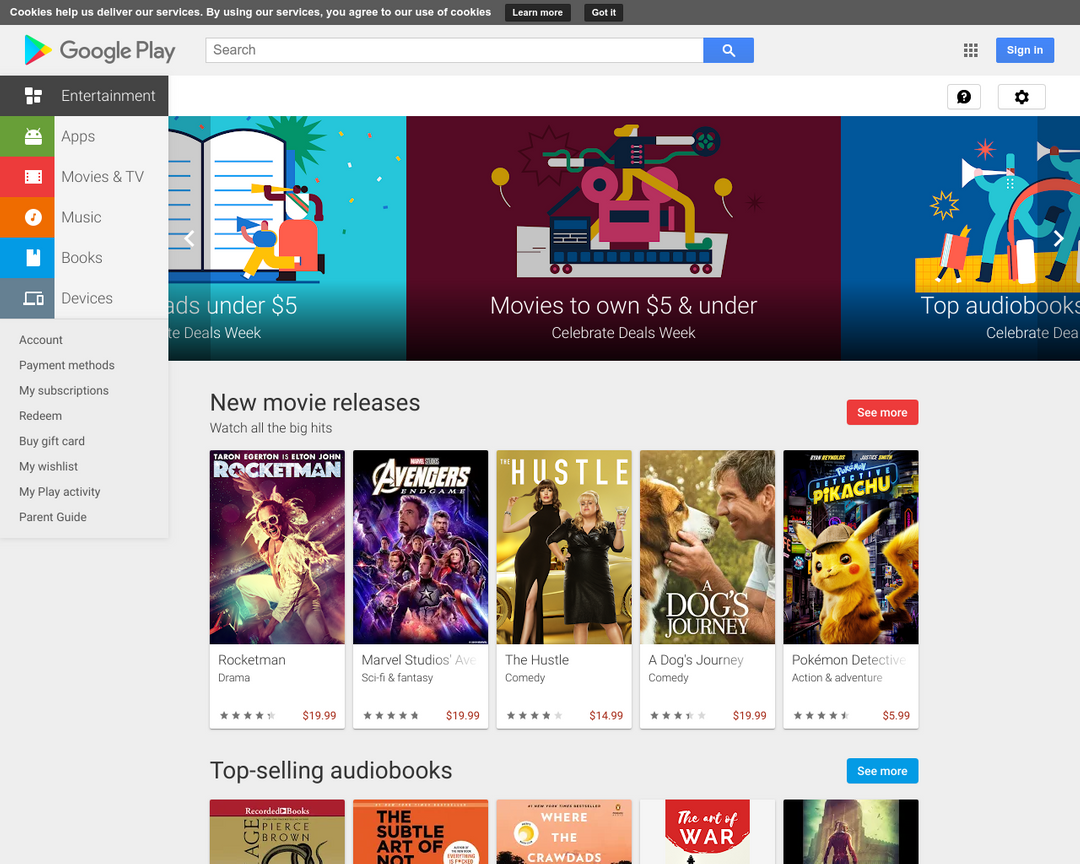Google: (57, 37, 132, 67)
